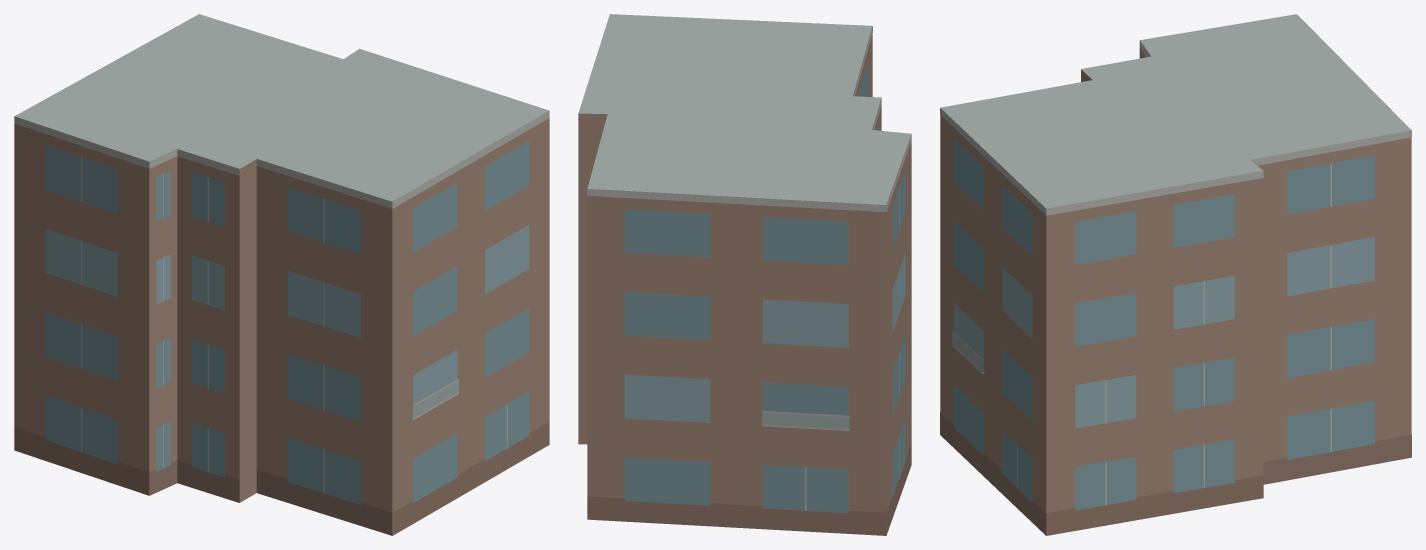
The model's file is survey-upis-32852940.glb.
3 views of the same model, side by side, from view 1: azimuth 30°, elevation 25°; view 2: azimuth 150°, elevation 25°; view 3: azimuth 270°, elevation 25° (orthographic). The views are drawn at different scales.
Parts seen in each view (by area): view 1: survey-upis-32852940.tmp; view 2: survey-upis-32852940.tmp; view 3: survey-upis-32852940.tmp.
Boxes of the visible parts, box(x1,y1,x2,y2) form: survey-upis-32852940.tmp: box(14, 14, 549, 535); survey-upis-32852940.tmp: box(578, 14, 911, 535); survey-upis-32852940.tmp: box(940, 14, 1411, 535).
Bounding box in the file's own units: 14.49 × 11.35 × 14.83.
